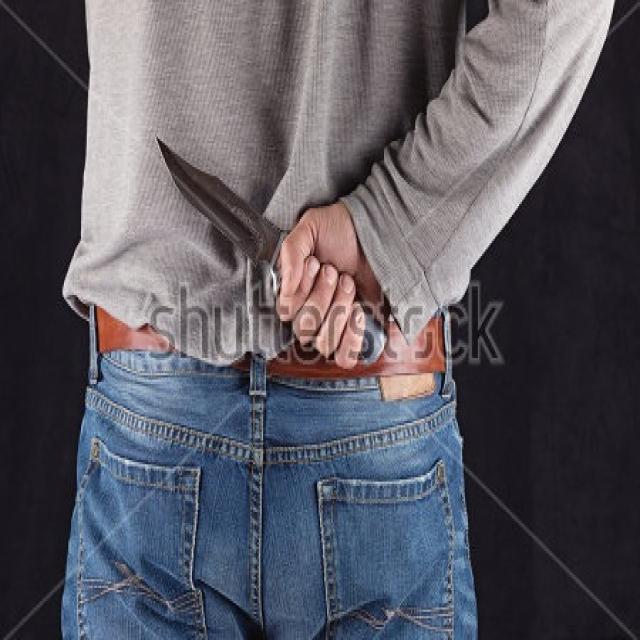knife: (150, 129, 283, 291)
